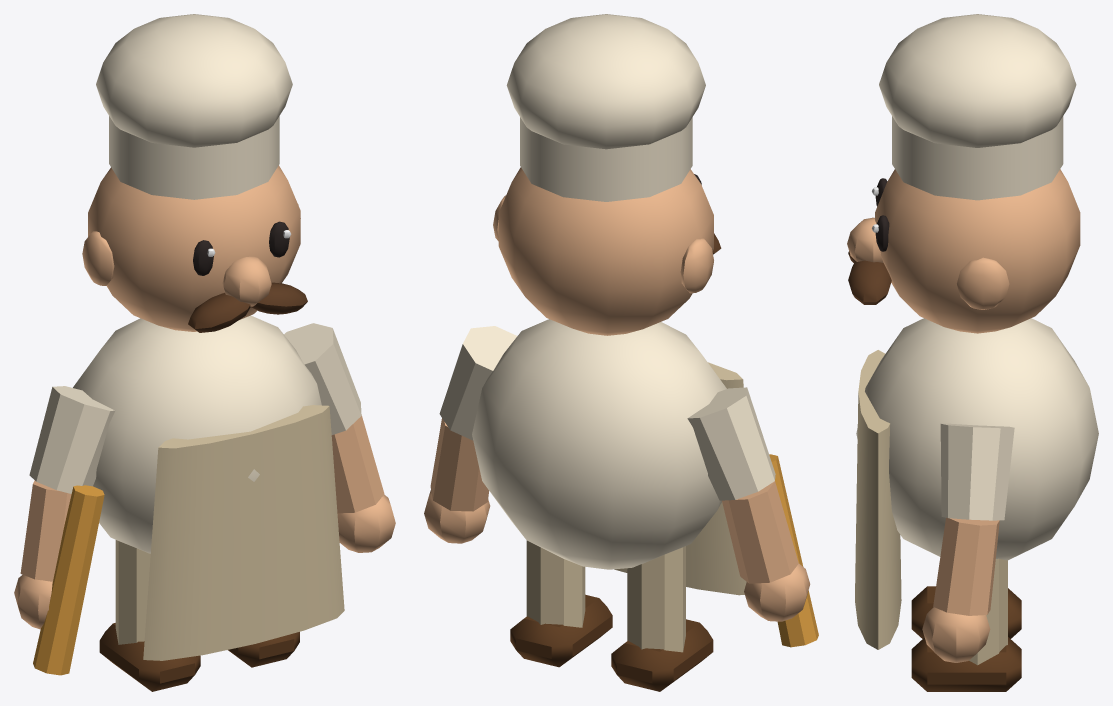
The model's file is CH_Cust_05_Firinci.fbx.
The picture shows the model from 3 angles, left to right: view 1: azimuth 30°, elevation 25°; view 2: azimuth 150°, elevation 25°; view 3: azimuth 270°, elevation 25°; orthographic projection.
Parts seen in each view (by area): view 1: CH_Cust_05_Firinci; view 2: CH_Cust_05_Firinci; view 3: CH_Cust_05_Firinci.
Boxes of the visible parts, x1,y1,x2,y2 form: CH_Cust_05_Firinci: (14, 14, 395, 691); CH_Cust_05_Firinci: (424, 14, 818, 691); CH_Cust_05_Firinci: (847, 14, 1098, 691).
Bounding box in the file's own units: 0.7912 × 1.27 × 0.459.
